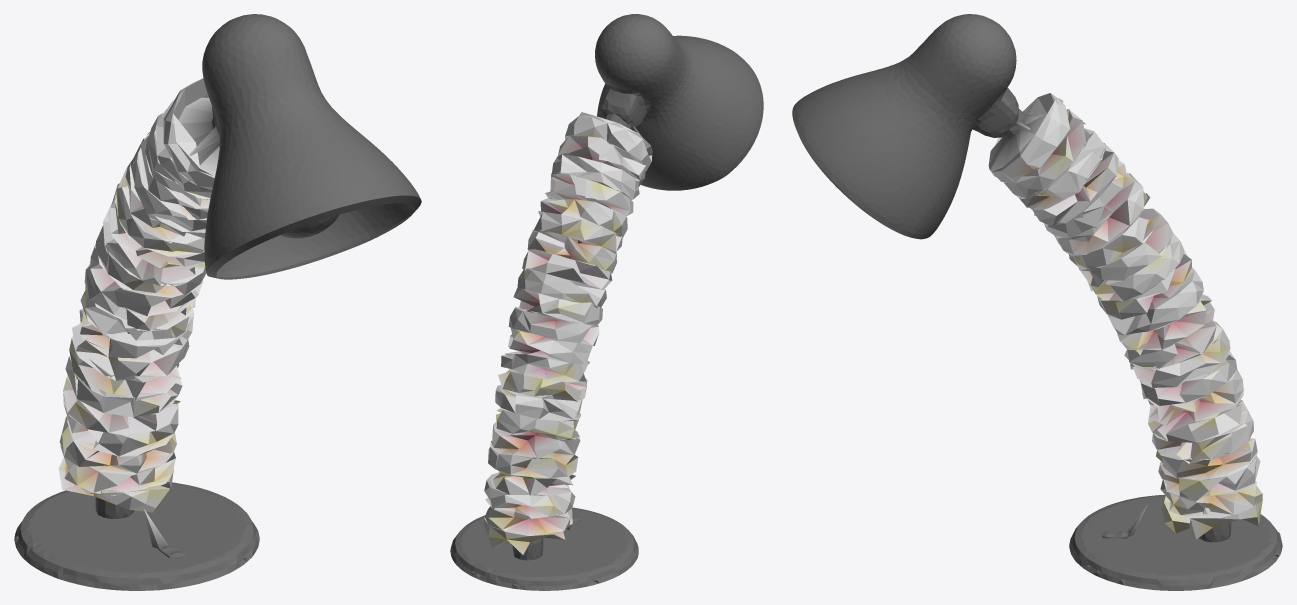
File: lamp3_final200.obj
3 renders of one model, left to right at view 1: azimuth 30°, elevation 25°; view 2: azimuth 150°, elevation 25°; view 3: azimuth 270°, elevation 25°, orthographic. The views are drawn at different scales.
Bounding box in the file's own units: 0.568 × 1.55 × 1.31.
